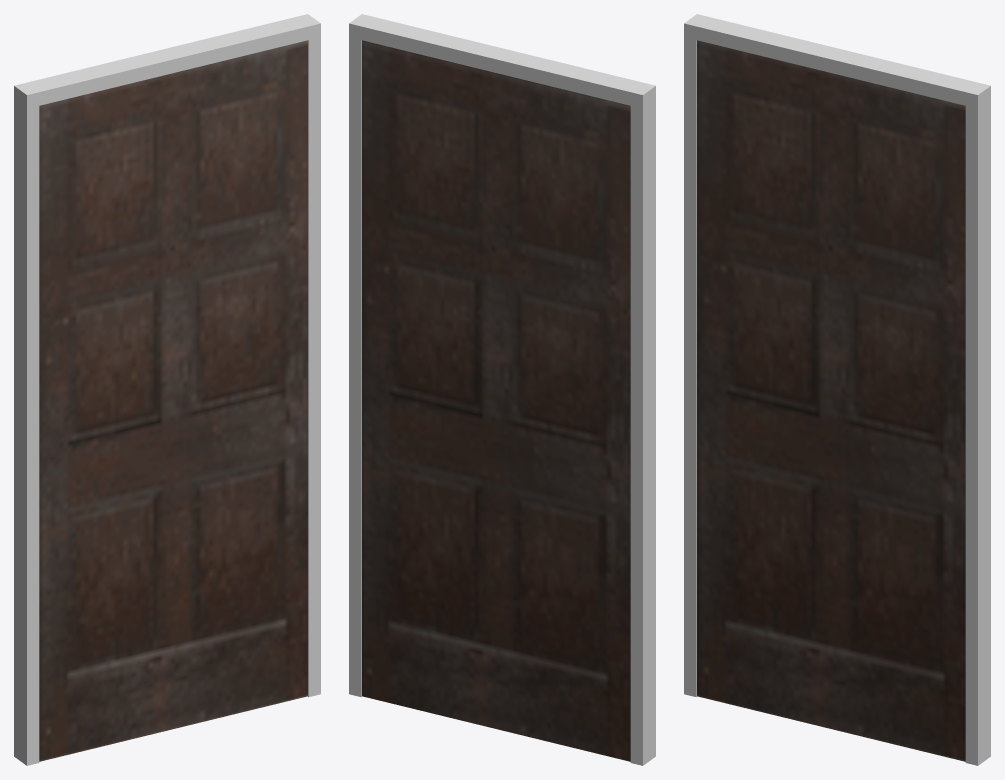
The model's file is BasicDoor.fbx.
3 views of the same model, side by side, from view 1: azimuth 30°, elevation 25°; view 2: azimuth 150°, elevation 25°; view 3: azimuth 330°, elevation 25° (orthographic).
Parts seen in each view (by area): view 1: Cube, DoorFrame; view 2: Cube, DoorFrame; view 3: Cube, DoorFrame.
Part boxes in pixels (<box>): Cube: <box>39,40,307,761</box>; DoorFrame: <box>14,14,320,765</box>; Cube: <box>362,40,630,761</box>; DoorFrame: <box>349,14,655,765</box>; Cube: <box>697,40,965,761</box>; DoorFrame: <box>684,14,990,765</box>.
Bounding box in the file's own units: 89.47 × 195 × 6.82.
